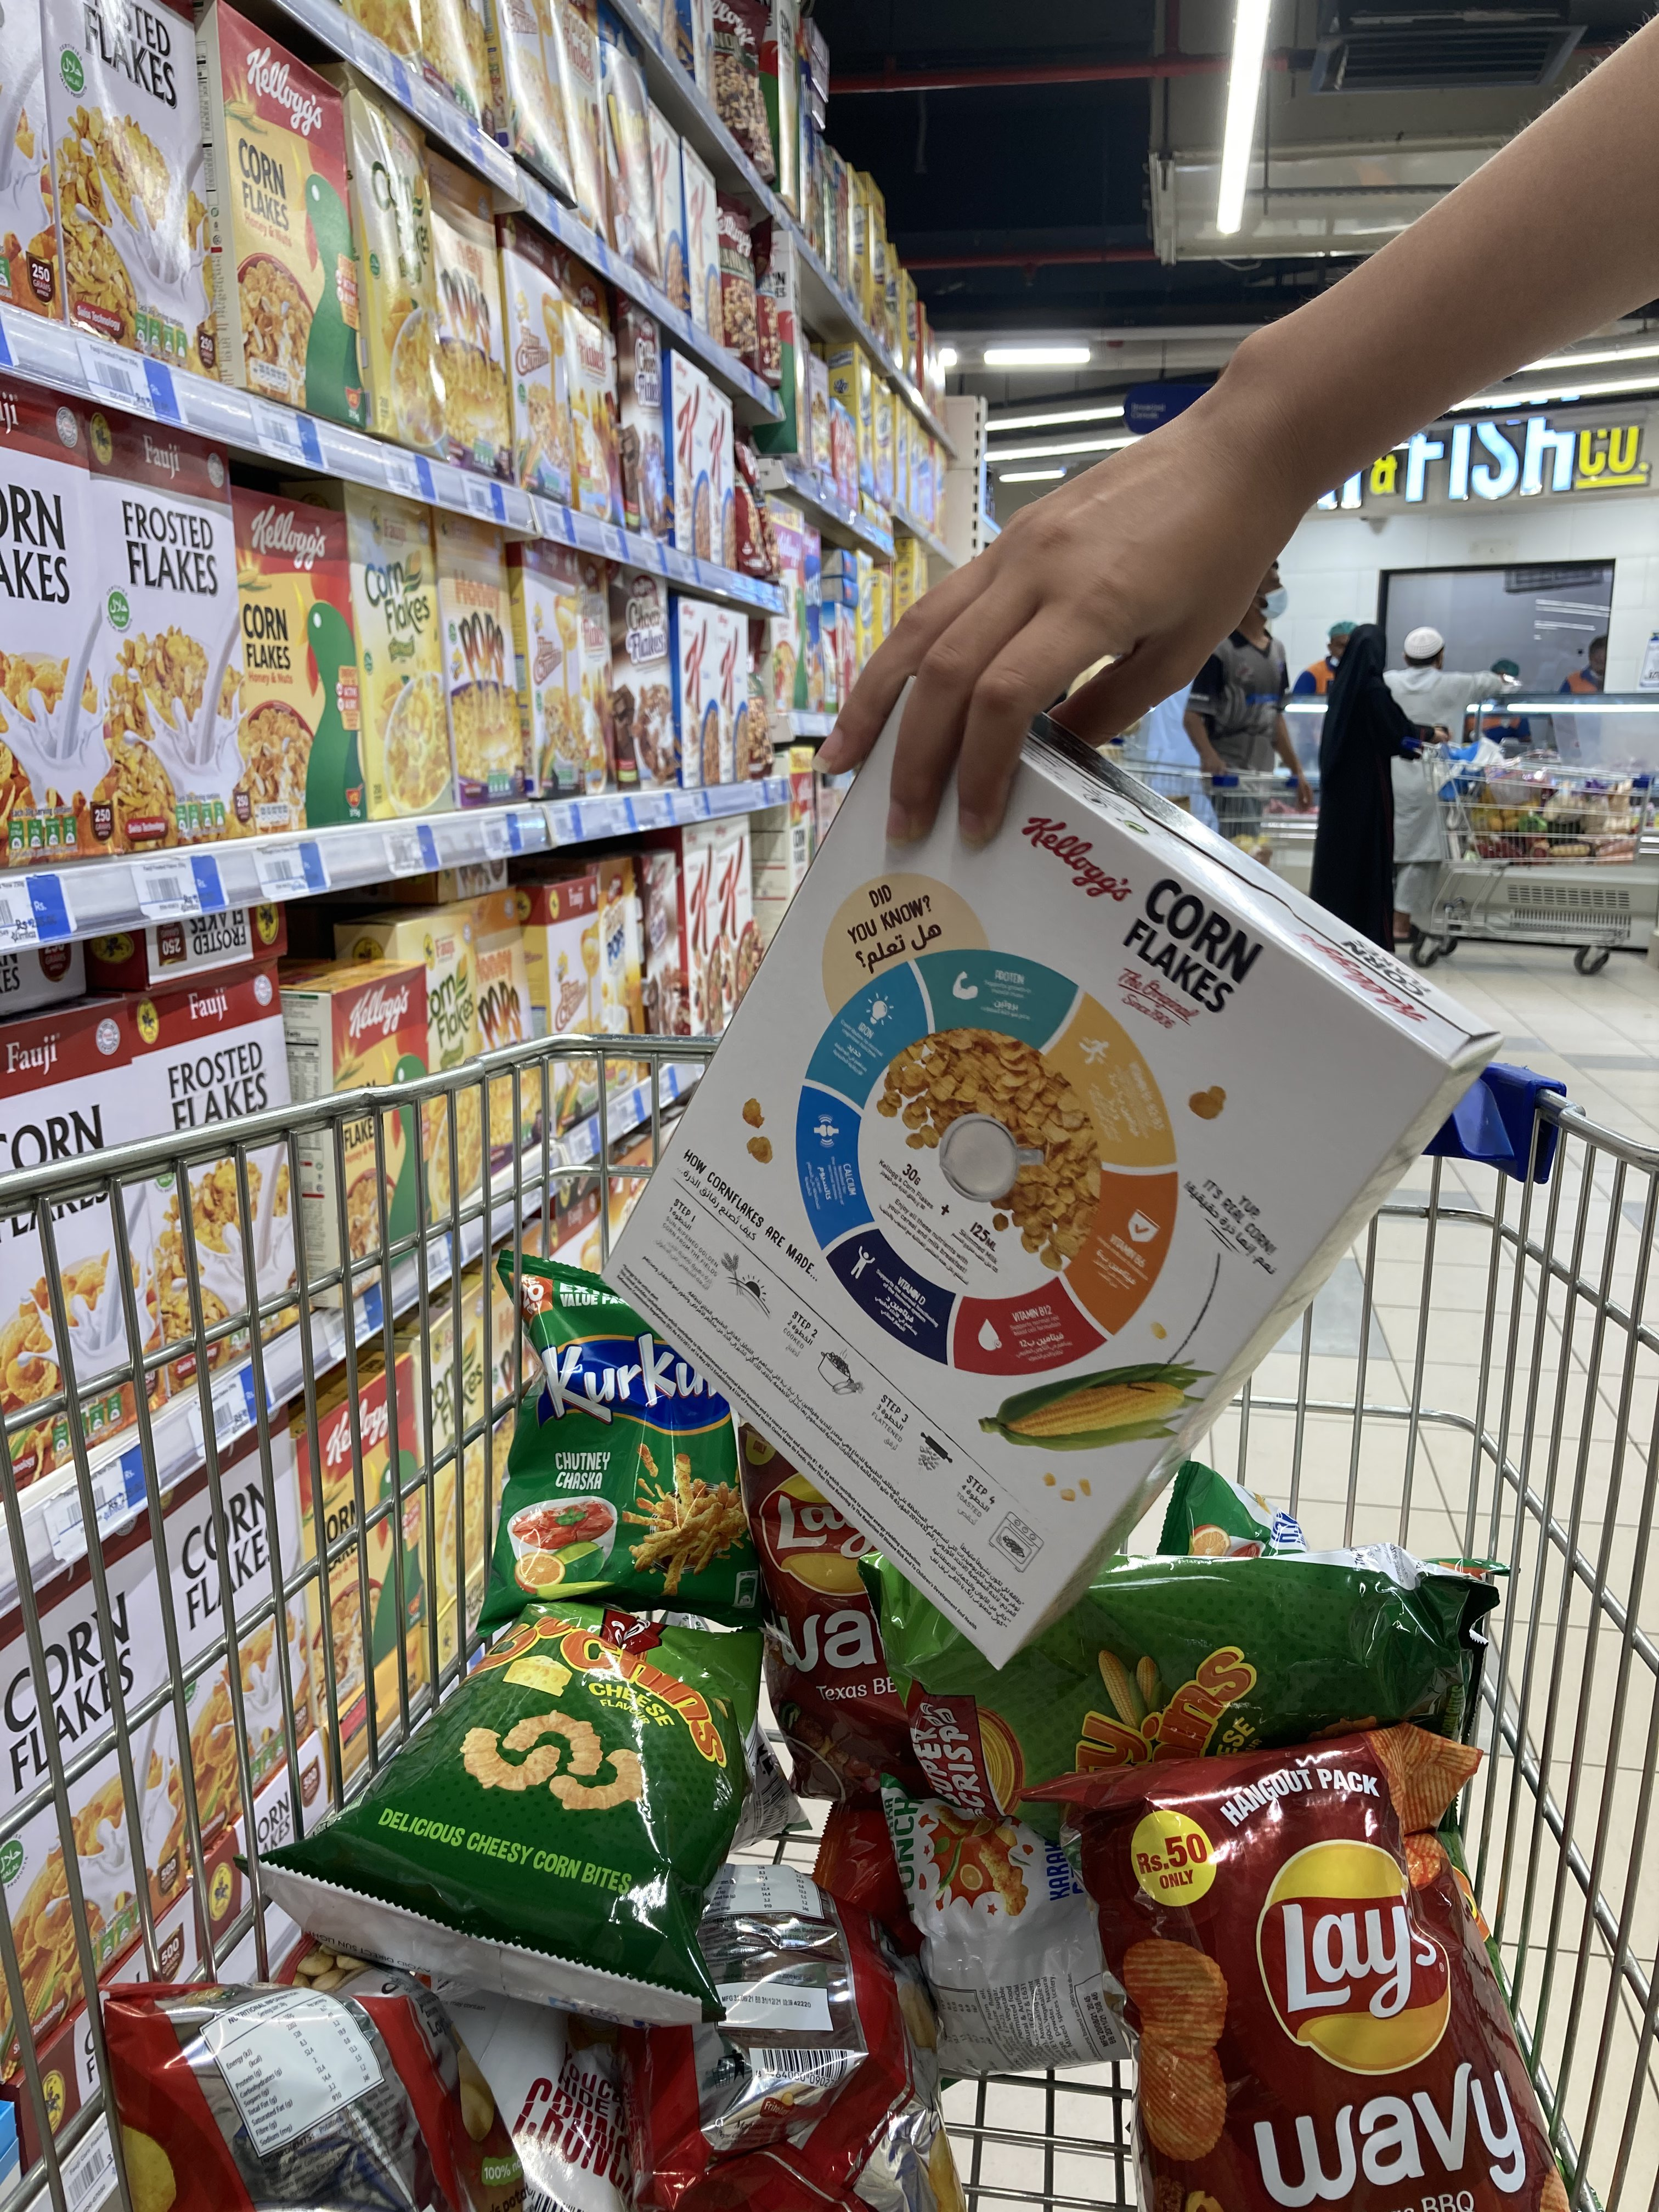Kellogg's Corn Flakes: (601, 714, 1500, 1669)
